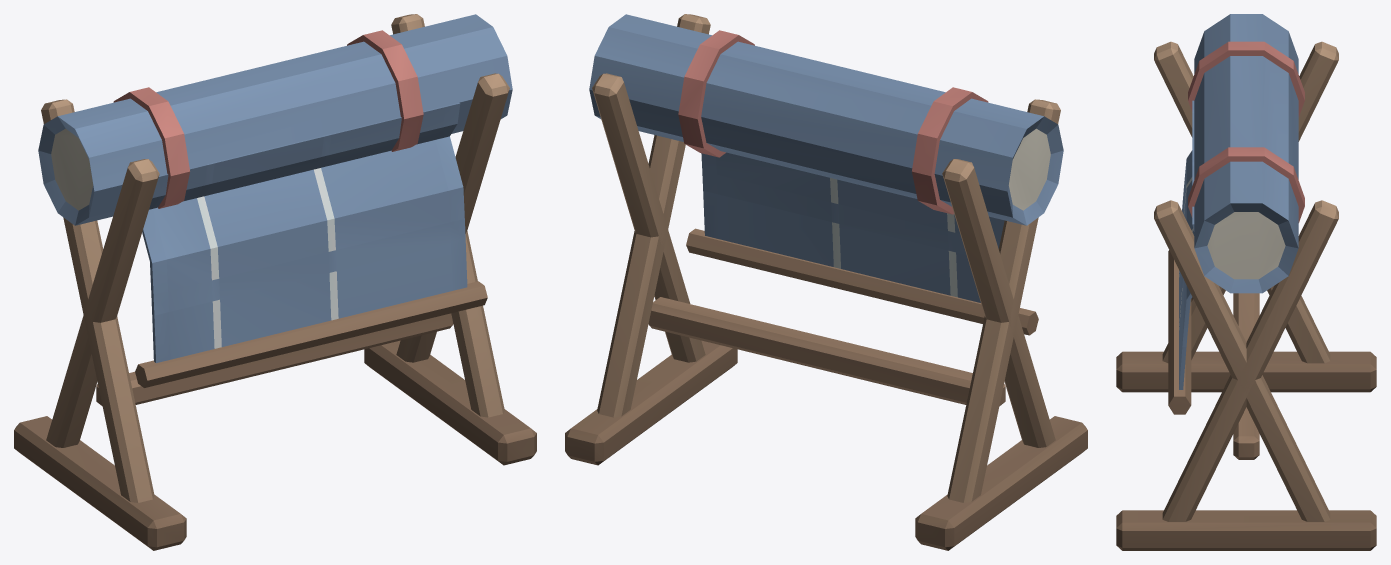
Rendered from blueprint.glb.
The picture shows the model from 3 angles, left to right: view 1: azimuth 30°, elevation 25°; view 2: azimuth 150°, elevation 25°; view 3: azimuth 270°, elevation 25°; orthographic projection. The views are drawn at different scales.
Visible parts, largest first — view 1: blueprint; view 2: blueprint; view 3: blueprint.
Part boxes in pixels (x1=…): blueprint: x1=14, y1=14, x2=536, y2=550; blueprint: x1=565, y1=14, x2=1087, y2=550; blueprint: x1=1116, y1=14, x2=1376, y2=550.
Bounding box in the file's own units: 0.86 × 0.7689 × 0.5.
